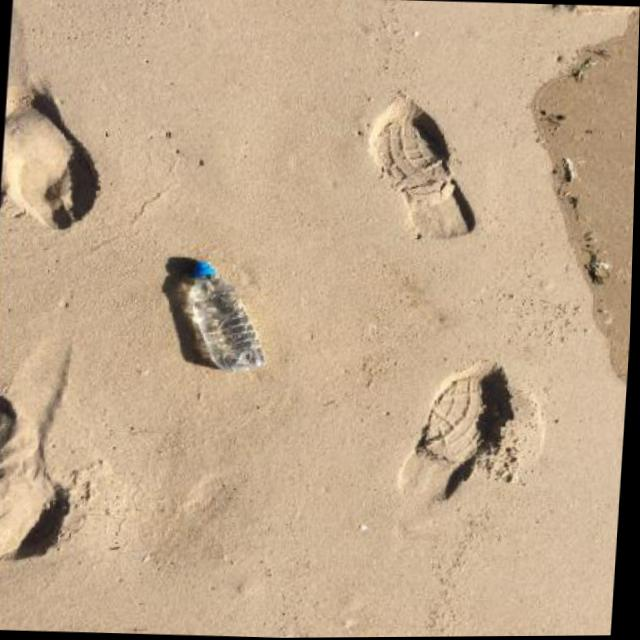plastic: (180, 259, 270, 374)
